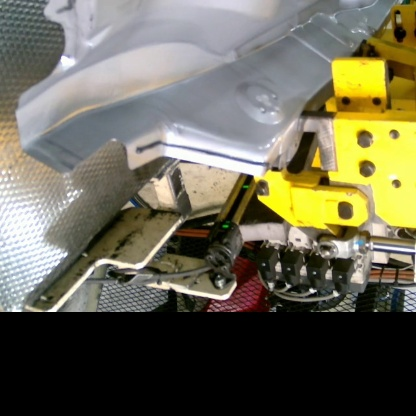line: (133, 138, 271, 167)
